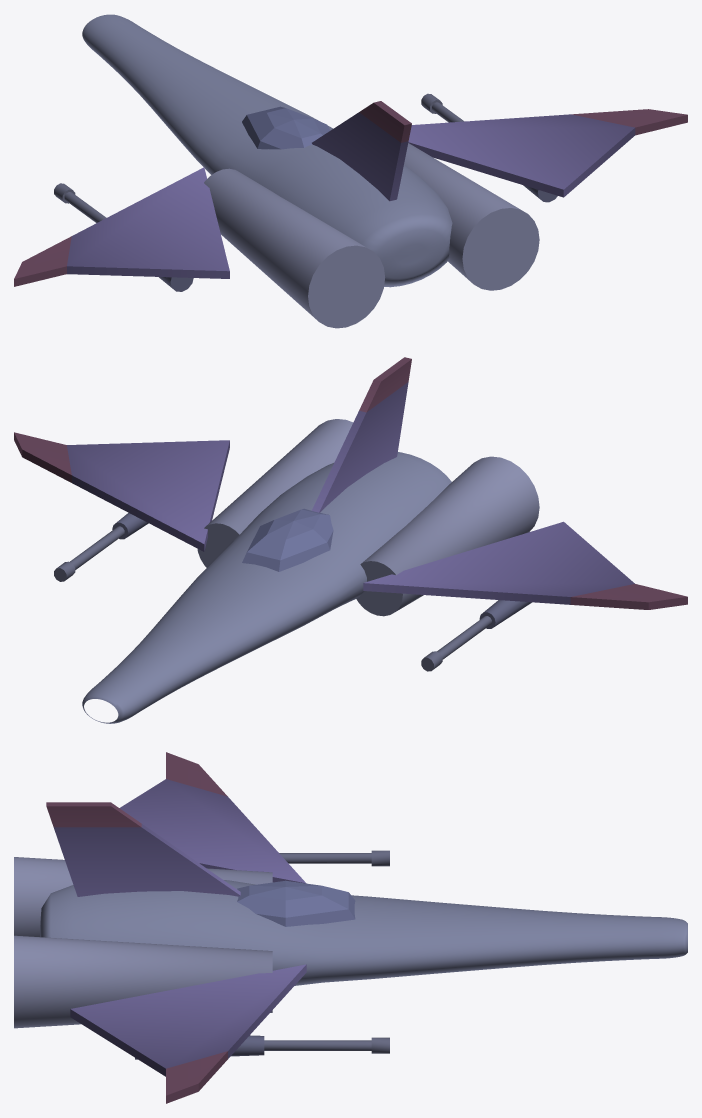
Rendered from demo-ship-transfer.glb.
3 renders of one model, top to bottom at view 1: azimuth 30°, elevation 25°; view 2: azimuth 150°, elevation 25°; view 3: azimuth 270°, elevation 25°, orthographic. The views are drawn at different scales.
Visible parts, largest first — view 1: hull, engine_l, wing_r, wing_l, engine_r, fin, canopy, wing_tip_r, wing_tip_l, fin_cap; view 2: hull, wing_l, engine_l, wing_r, engine_r, fin, canopy, wing_tip_l, wing_tip_r, fin_cap, gun_pod_l, gun_barrel_r (+1 smaller); view 3: hull, engine_r, wing_r, wing_l, fin, canopy, engine_l, fin_cap, wing_tip_r, wing_tip_l, gun_barrel_r, gun_barrel_l.
Boxes of the visible parts, x1,y1,x2,y2 form: hull: (82,14,452,287); engine_l: (204,168,385,328); wing_r: (408,114,635,197); wing_l: (67,167,229,278); engine_r: (404,143,539,290); fin: (312,112,408,201); canopy: (242,106,330,149); wing_tip_r: (571,109,687,135); wing_tip_l: (14,236,71,286); fin_cap: (359,101,411,142); hull: (82,452,451,723); wing_l: (363,521,634,604); engine_l: (356,456,539,616); wing_r: (67,440,229,551); engine_r: (197,419,353,567); fin: (311,382,408,512); canopy: (242,508,333,571); wing_tip_l: (570,584,687,609); wing_tip_r: (14,432,71,482); fin_cap: (359,357,411,412); gun_pod_l: (479,600,531,628); gun_barrel_r: (70,526,124,569); hull: (40,880,687,985); engine_r: (14,935,272,1028); wing_r: (70,964,306,1076); wing_l: (119,779,306,883); fin: (53,824,240,896); canopy: (237,880,355,926); engine_l: (14,857,272,936); fin_cap: (46,802,141,827); wing_tip_r: (166,1051,227,1103); wing_tip_l: (166,752,227,796); gun_barrel_r: (264,1040,371,1050); gun_barrel_l: (279,853,371,863).
Bounding box in the file's own units: 6.28 × 1.56 × 5.21.
Materials: 1 (1 with a texture image).
